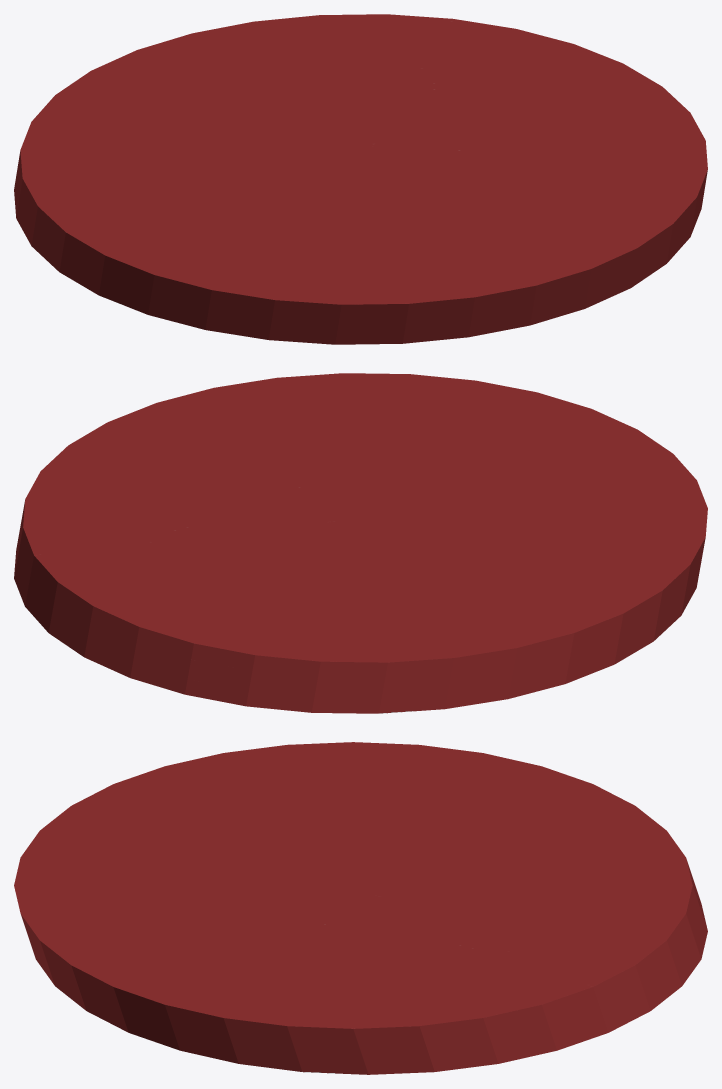
The model's file is carne.glb.
3 renders of one model, top to bottom at view 1: azimuth 30°, elevation 25°; view 2: azimuth 150°, elevation 25°; view 3: azimuth 270°, elevation 25°, orthographic.
Visible parts, largest first — view 1: Carne1; view 2: Carne1; view 3: Carne1.
Boxes of the visible parts, x1,y1,x2,y2 form: Carne1: [14, 14, 707, 344]; Carne1: [14, 373, 707, 713]; Carne1: [14, 742, 707, 1074].
Size of the model in its own units: 2 by 0.1474 by 2.05.
Materials: 1 (1 with a texture image).
